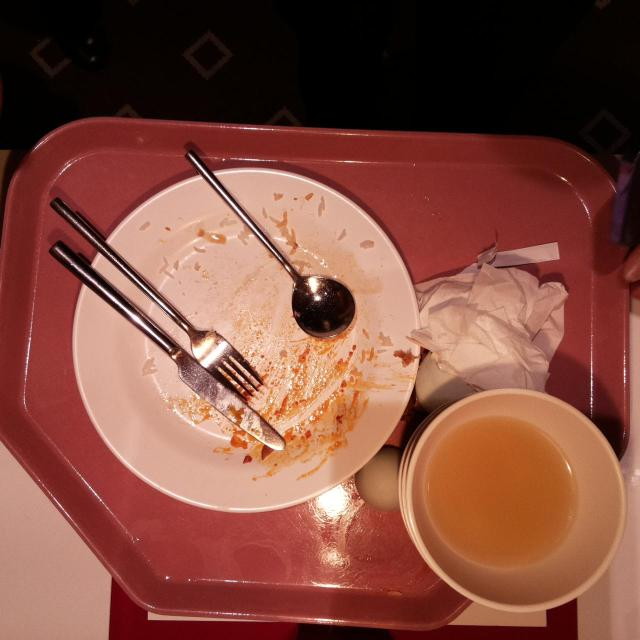Egg-shell: (412, 350, 480, 412), (354, 442, 406, 514)
